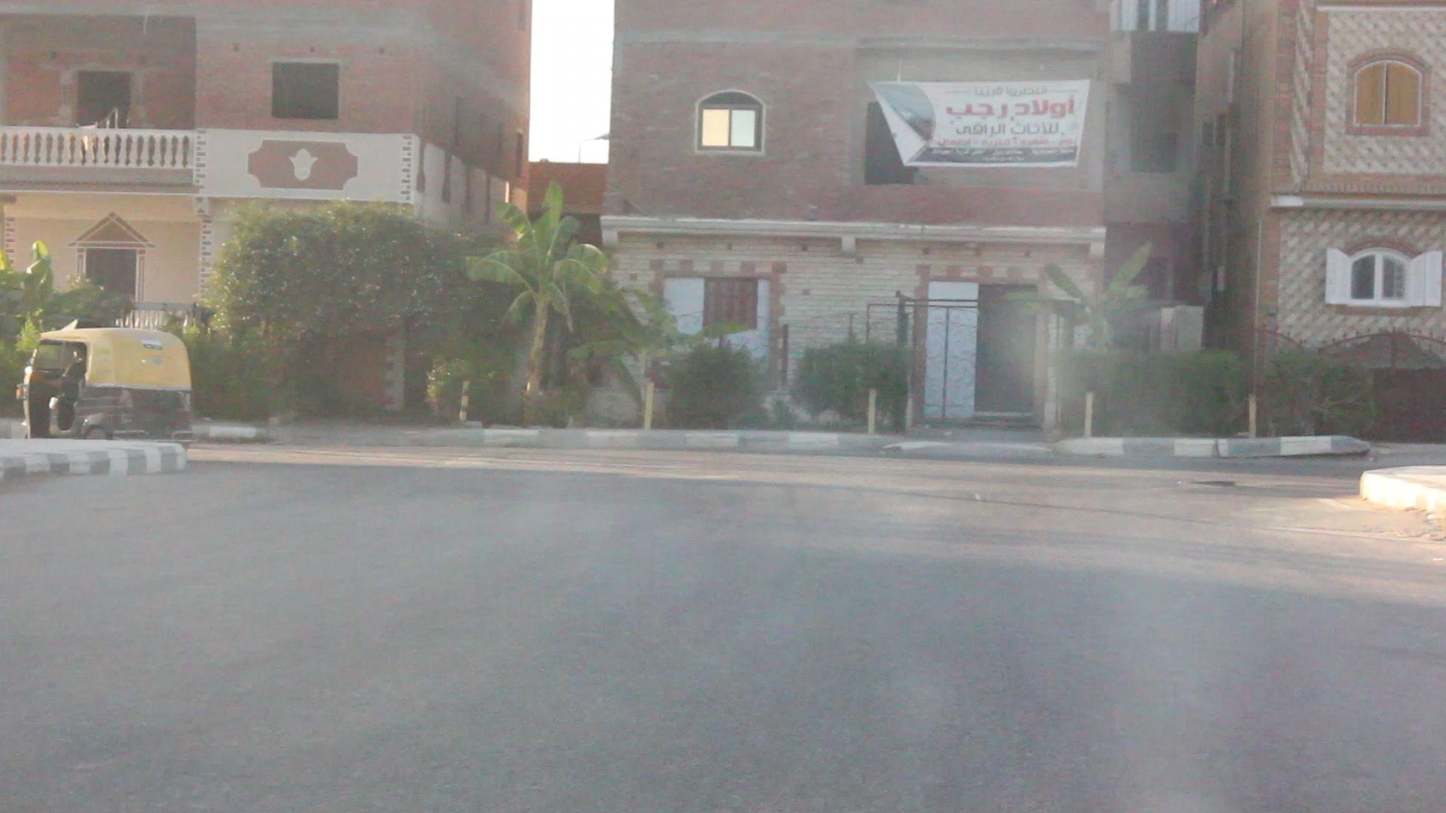Bump: (21, 470, 1431, 538)
